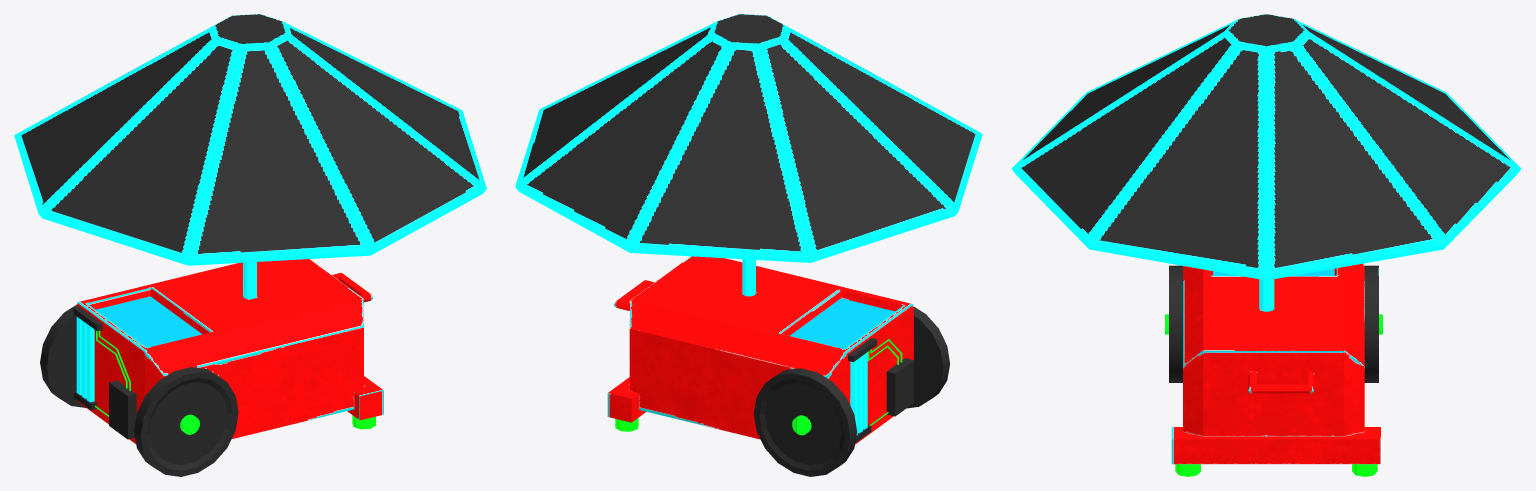
Rendered from drinkcart.glb.
3 views of the same model, side by side, from view 1: azimuth 30°, elevation 25°; view 2: azimuth 150°, elevation 25°; view 3: azimuth 270°, elevation 25° (orthographic). The views are drawn at different scales.
Visible parts, largest first — view 1: Cylinder124, Box191, Box192; view 2: Cylinder124, Box191, Box192; view 3: Cylinder124, Box191, Box192.
Boxes of the visible parts, left/top/right/bottom form: Cylinder124: left=14, top=14, right=486, bottom=299; Box191: left=77, top=259, right=383, bottom=443; Box192: left=40, top=296, right=238, bottom=476; Cylinder124: left=515, top=14, right=982, bottom=296; Box191: left=607, top=256, right=913, bottom=444; Box192: left=753, top=298, right=949, bottom=476; Cylinder124: left=1011, top=14, right=1521, bottom=311; Box191: left=1171, top=263, right=1380, bottom=476; Box192: left=1165, top=265, right=1382, bottom=382.
Size of what is drawn, in the model's own units: 4.26 by 3.71 by 4.26.
Materials: 3 (3 with a texture image).
